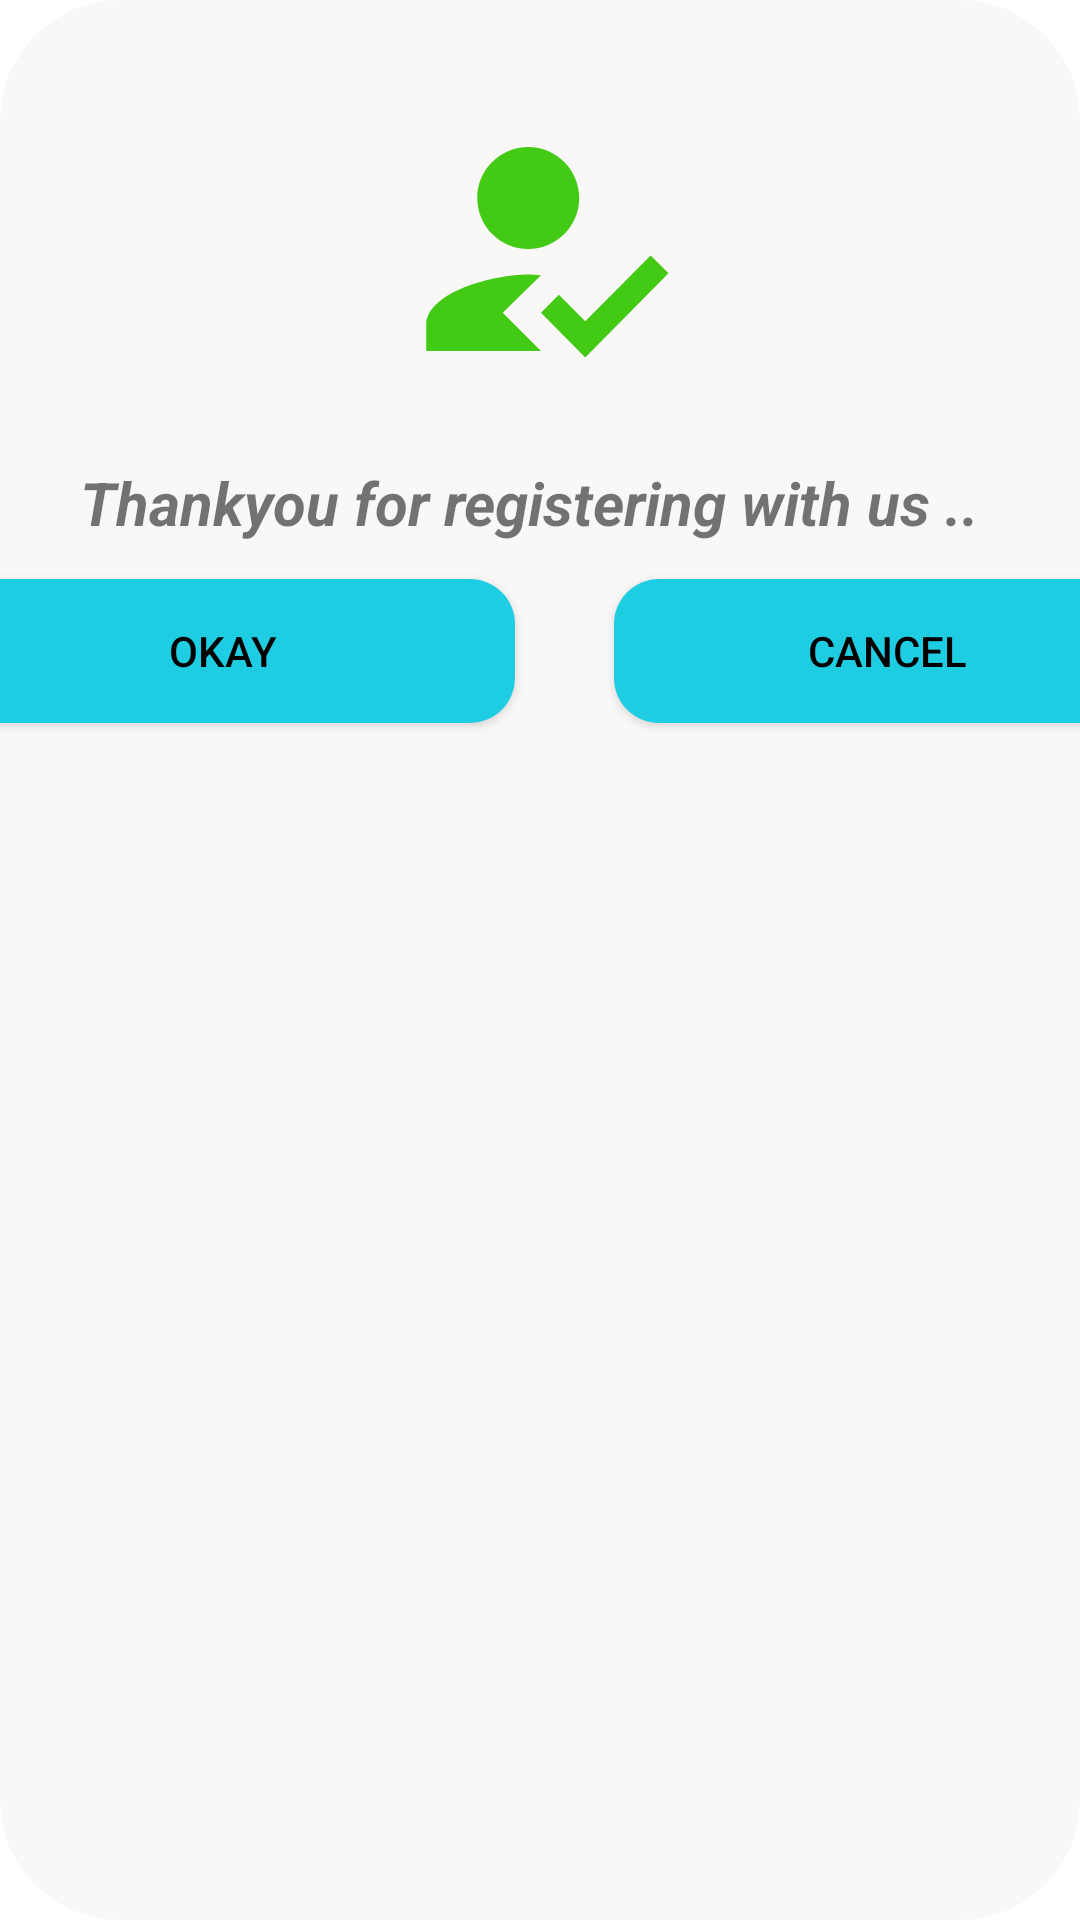

Screen size 1080 × 1920. Icon name, then its box in pixels as {"x1": x1, "y1": y1, "x2": x2, "y2": y2}:
how to reg: {"x1": 426, "y1": 147, "x2": 669, "y2": 358}
